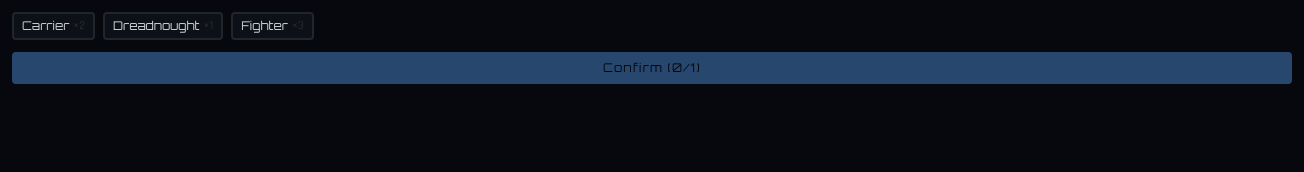
Test: FleetDisplay › Confirm button enables when correct number of hits assigned
This screenshot has width=1304, height=172.
Click the button with test id "chip-u1" at coordinates (54, 26), box [12,12,95,40]
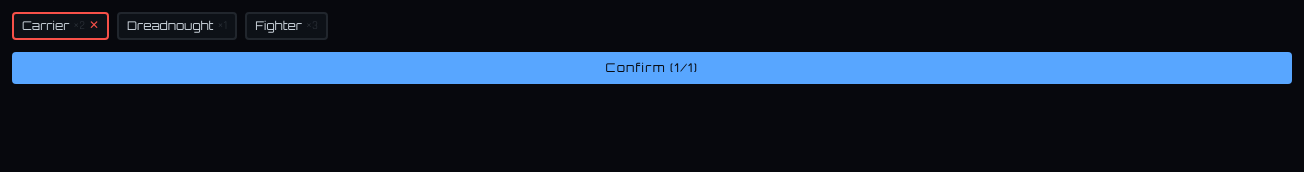
Result: the button "Confirm (1/1)" is enabled at [12,52,1292,84]
